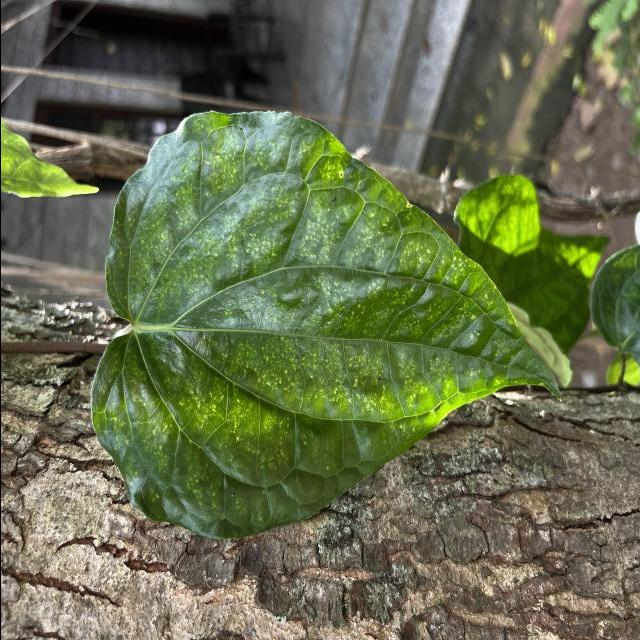Piper betle: (84, 104, 568, 544)
